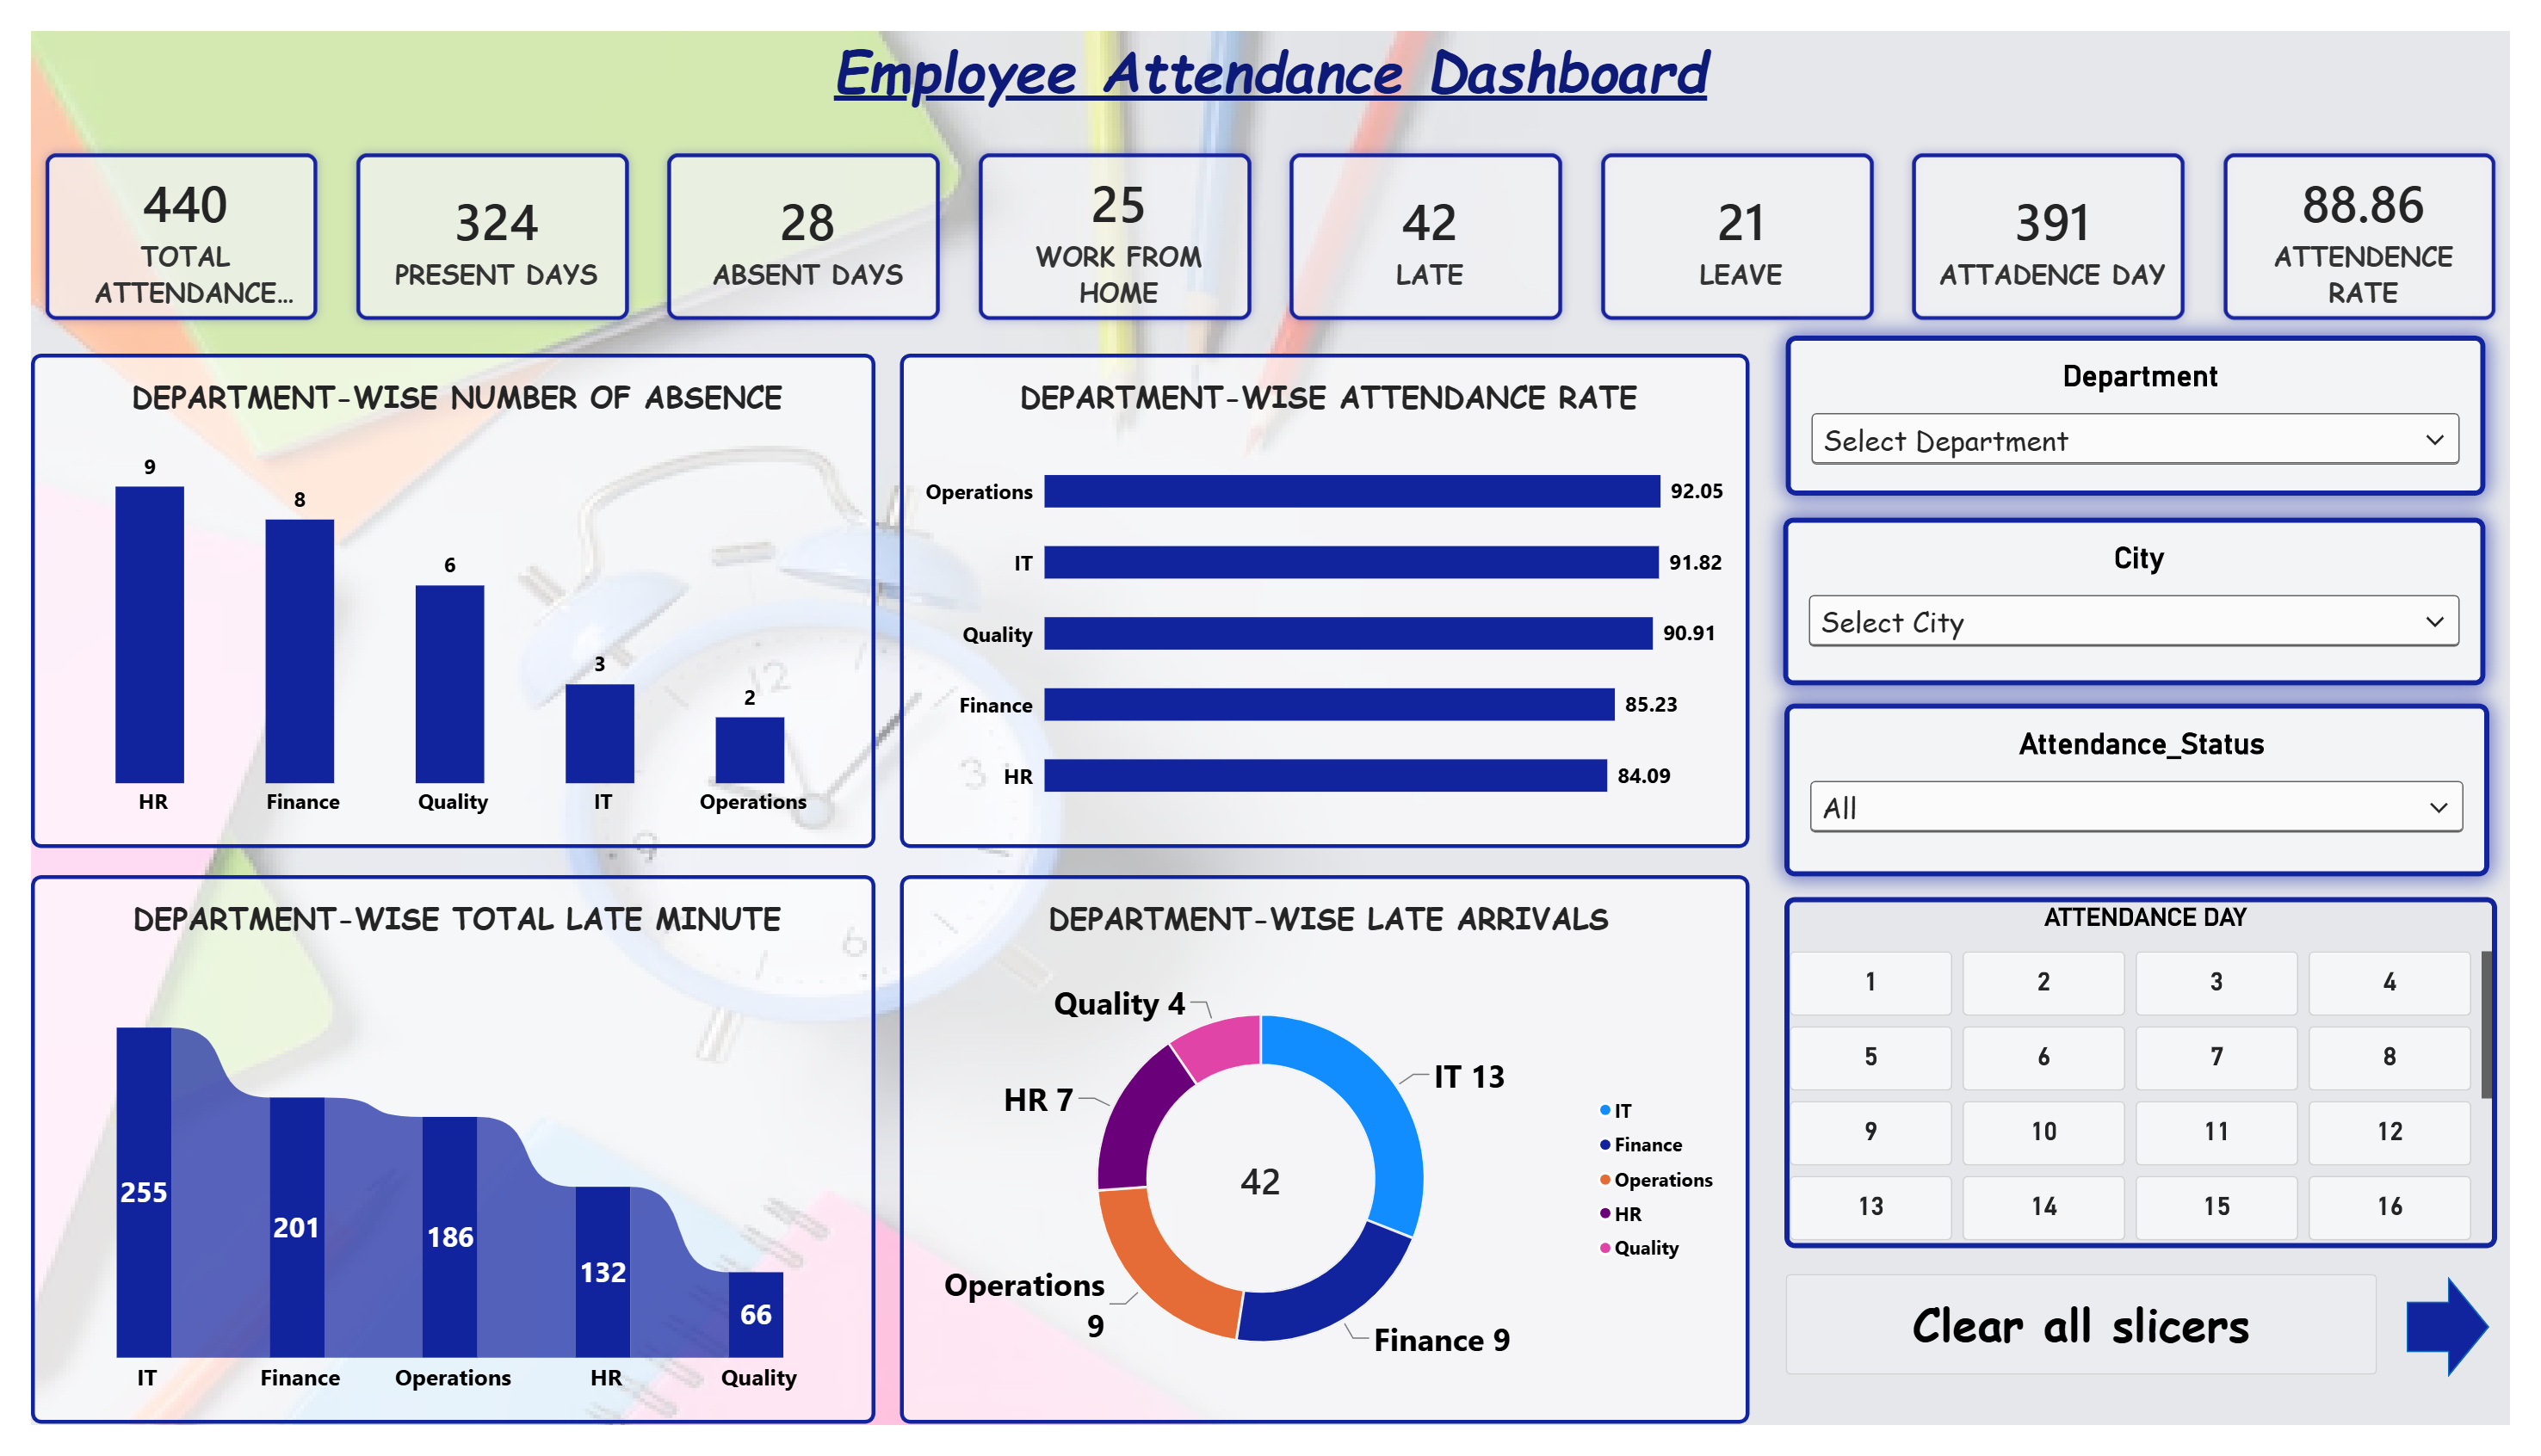

Layout of this report page (visuals, bound fields, positions):
{"tool":"powerbi","page":{"name":"Page 1","canvas":[1920,1080],"ordinal":0},"visuals":[{"type":"cardVisual","fields":{"Data":["_MEASURE.TOTAL_ATTADENCE_RECORD","_MEASURE.PRESENT_DAYS","_MEASURE.ABSENT_DAYS","_MEASURE.WORK_FROM_HOME","_MEASURE.COME_LATE","_MEASURE.LEAVE","_MEASURE.ATTADENCE_DAY","_MEASURE.ATTENDENCE_RATE"]},"box":[0,83.9,1920.4,151.4],"z":0},{"type":"clusteredColumnChart","title":"DEPARTMENT-WISE NUMBER OF ABSENCE","fields":{"Category":["Attendance_Log.Department"],"Y":["_MEASURE.ABSENT_DAYS"]},"box":[0,250.3,654.2,382.8],"z":1000},{"type":"clusteredBarChart","title":"DEPARTMENT-WISE ATTENDANCE RATE","fields":{"Category":["Attendance_Log.Department"],"Y":["_MEASURE.ATTENDENCE_RATE"]},"box":[673.1,250.3,658.4,382.8],"z":2000},{"type":"ribbonChart","title":"DEPARTMENT-WISE TOTAL LATE MINUTE","fields":{"Category":["Attendance_Log.Department"],"Y":["_MEASURE.LATE_MINUTES"]},"box":[0,654.2,654.2,424.9],"z":3000},{"type":"donutChart","title":"DEPARTMENT-WISE LATE ARRIVALS","fields":{"Category":["Attendance_Log.Department"],"Y":["_MEASURE.LATE"]},"box":[673.1,654.2,658.4,424.9],"z":4000},{"type":"listSlicer","fields":{"Values":["Attendance_Log.Department"]},"box":[1358.8,235.6,542.7,124.1],"z":5000},{"type":"advancedSlicerVisual","title":"ATTENDANCE DAY","fields":{"Values":["Attendance_Log.Attendance_Date.Variation.Date Hierarchy.Day"]},"box":[1358.5,671,551.6,271.7],"z":6000},{"type":"textbox","box":[0,0,1920.4,84.4],"z":7000},{"type":"listSlicer","fields":{"Values":["Attendance_Log.Attendance_Status"]},"box":[1358.5,520.8,545.5,133.8],"z":8000},{"type":"actionButton","box":[1358.8,963.4,458.5,77.8],"z":9000},{"type":"shape","box":[1840.5,965.5,63.1,77.8],"z":10000},{"type":"listSlicer","fields":{"Values":["Attendance_Log.City"]},"box":[1356.7,376.5,544.8,130.4],"z":11000}]}

Visuals, with their boxes in screenshot pixels (x1, y1, x2, y2), scaled from the page's 1920x1080 canvas onto the 2541x1456 screenshot:
cardVisual - _MEASURE.TOTAL_ATTADENCE_RECORD x _MEASURE.PRESENT_DAYS: left=0, top=113, right=2540, bottom=318
"DEPARTMENT-WISE NUMBER OF ABSENCE" clusteredColumnChart: left=0, top=337, right=866, bottom=854
"DEPARTMENT-WISE ATTENDANCE RATE" clusteredBarChart: left=891, top=337, right=1762, bottom=854
"DEPARTMENT-WISE TOTAL LATE MINUTE" ribbonChart: left=0, top=882, right=866, bottom=1455
"DEPARTMENT-WISE LATE ARRIVALS" donutChart: left=891, top=882, right=1762, bottom=1455
listSlicer - Attendance_Log.Department: left=1798, top=318, right=2517, bottom=485
"ATTENDANCE DAY" advancedSlicerVisual: left=1798, top=904, right=2528, bottom=1271
textbox: left=0, top=0, right=2540, bottom=114
listSlicer - Attendance_Log.Attendance_Status: left=1798, top=702, right=2519, bottom=883
actionButton: left=1798, top=1299, right=2405, bottom=1404
shape: left=2436, top=1302, right=2519, bottom=1407
listSlicer - Attendance_Log.City: left=1796, top=508, right=2517, bottom=683
